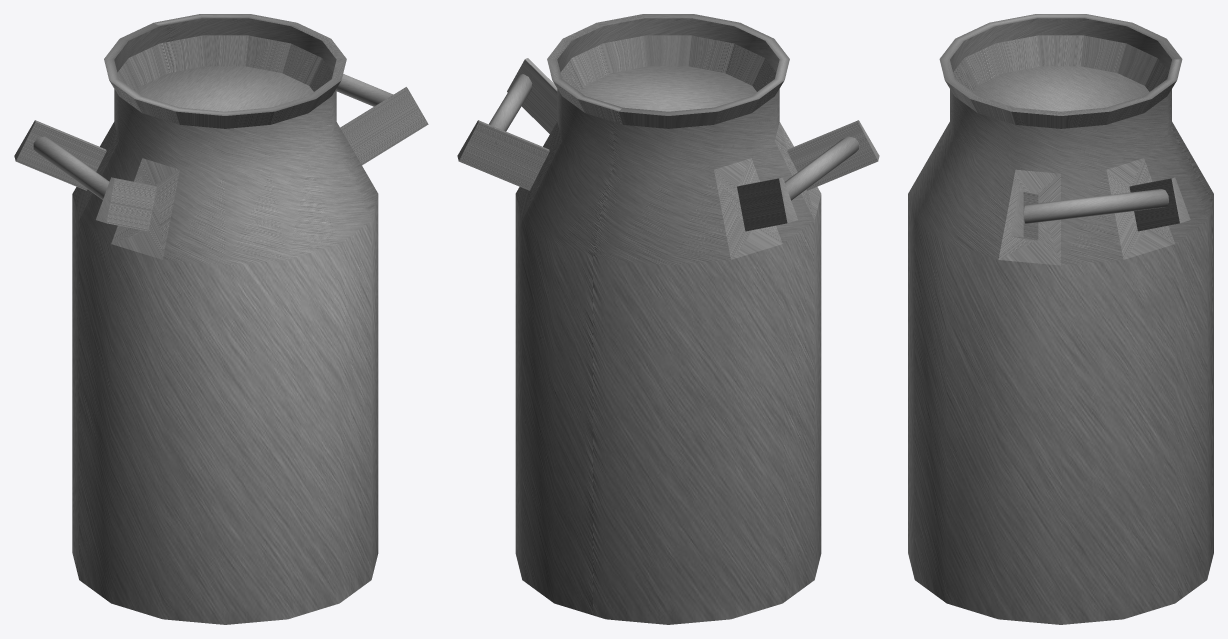
The model's file is Milk.FBX.
The picture shows the model from 3 angles, left to right: view 1: azimuth 30°, elevation 25°; view 2: azimuth 150°, elevation 25°; view 3: azimuth 270°, elevation 25°; orthographic projection.
Parts seen in each view (by area): view 1: Cylinder002; view 2: Cylinder002; view 3: Cylinder002.
Boxes of the visible parts, bbox=[...] form: Cylinder002: bbox=[14, 14, 428, 624]; Cylinder002: bbox=[457, 14, 879, 624]; Cylinder002: bbox=[908, 14, 1213, 624].
Size of the model in its own units: 25.37 by 34.3 by 19.19.
Materials: 1 (1 with a texture image).
